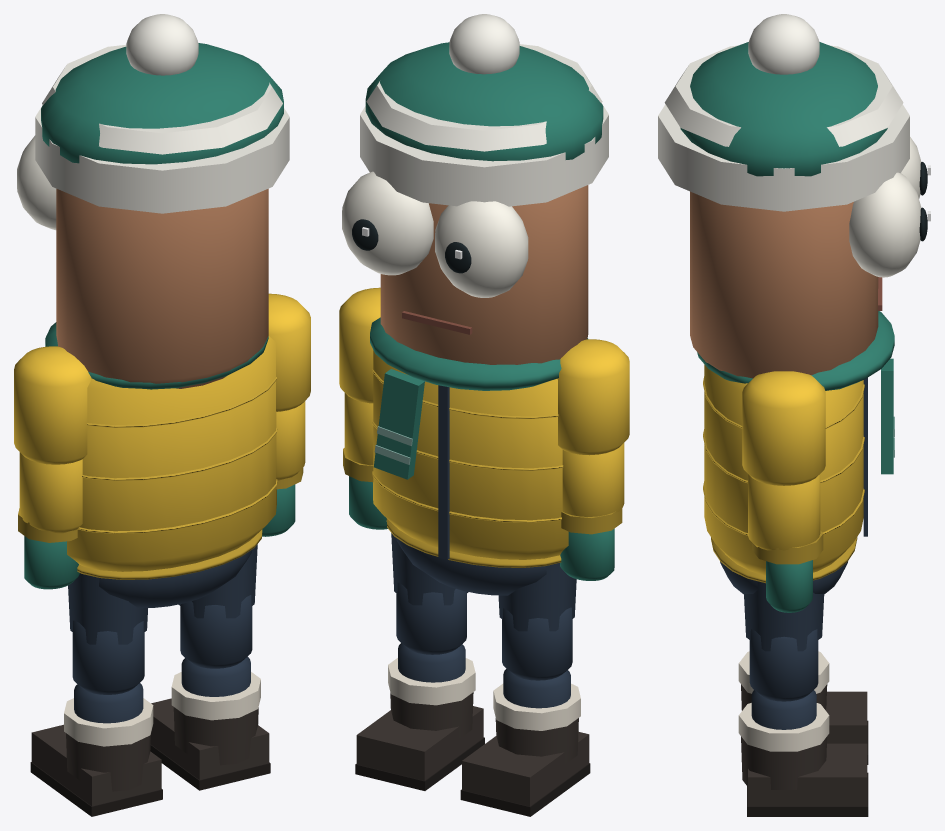
Rendered from spectator_winter_6.glb.
3 views of the same model, side by side, from view 1: azimuth 30°, elevation 25°; view 2: azimuth 150°, elevation 25°; view 3: azimuth 270°, elevation 25° (orthographic). The views are drawn at different scales.
Parts seen in each view (by area): view 1: Head, RallySpectator, LeftShin, RightShin, LeftArm, LeftLeg, LeftForearm, RightLeg, RightArm, RightForearm; view 2: Head, RallySpectator, LeftShin, RightShin, LeftArm, LeftForearm, LeftLeg, RightLeg, RightArm, RightForearm; view 3: Head, RallySpectator, RightShin, RightArm, RightForearm, RightLeg, LeftShin.
Part boxes in pixels (<box>): Head: <box>17,14,289,388</box>; RallySpectator: <box>45,322,277,608</box>; LeftShin: <box>30,683,162,816</box>; RightShin: <box>150,656,270,790</box>; LeftArm: <box>14,346,91,464</box>; LeftLeg: <box>68,573,147,694</box>; LeftForearm: <box>18,452,82,589</box>; RightLeg: <box>178,544,257,668</box>; RightArm: <box>268,293,310,411</box>; RightForearm: <box>262,401,305,536</box>; Head: <box>342,14,608,364</box>; RallySpectator: <box>370,317,587,595</box>; LeftShin: <box>460,669,590,816</box>; RightShin: <box>355,643,484,790</box>; LeftArm: <box>557,339,629,455</box>; LeftForearm: <box>560,443,624,580</box>; LeftLeg: <box>498,563,576,680</box>; RightLeg: <box>391,533,468,654</box>; RightArm: <box>339,287,380,403</box>; RightForearm: <box>343,393,387,529</box>; Head: <box>658,14,930,378</box>; RallySpectator: <box>697,311,894,594</box>; RightShin: <box>738,690,868,816</box>; RightArm: <box>742,371,825,485</box>; RightForearm: <box>748,474,823,612</box>; RightLeg: <box>744,581,824,701</box>; LeftShin: <box>738,651,868,764</box>.
Size of the model in its own units: 0.9 by 2.3 by 0.7535.
